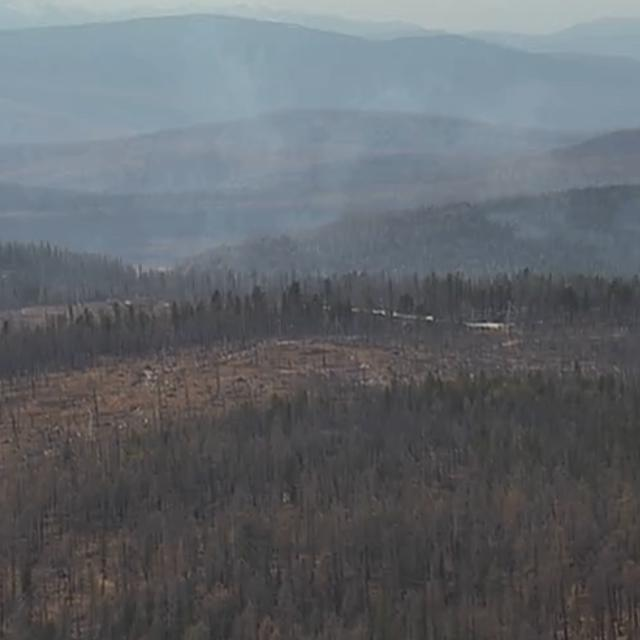Smoke: (460, 121, 640, 279)
